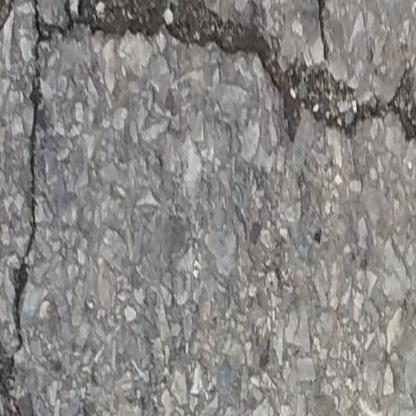Cracks: (0, 0, 416, 416), (313, 0, 331, 48)
